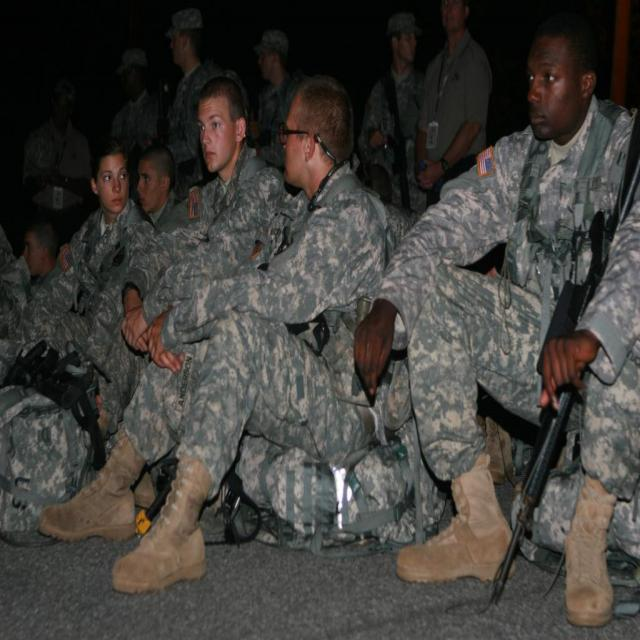weapon: (490, 107, 640, 607)
